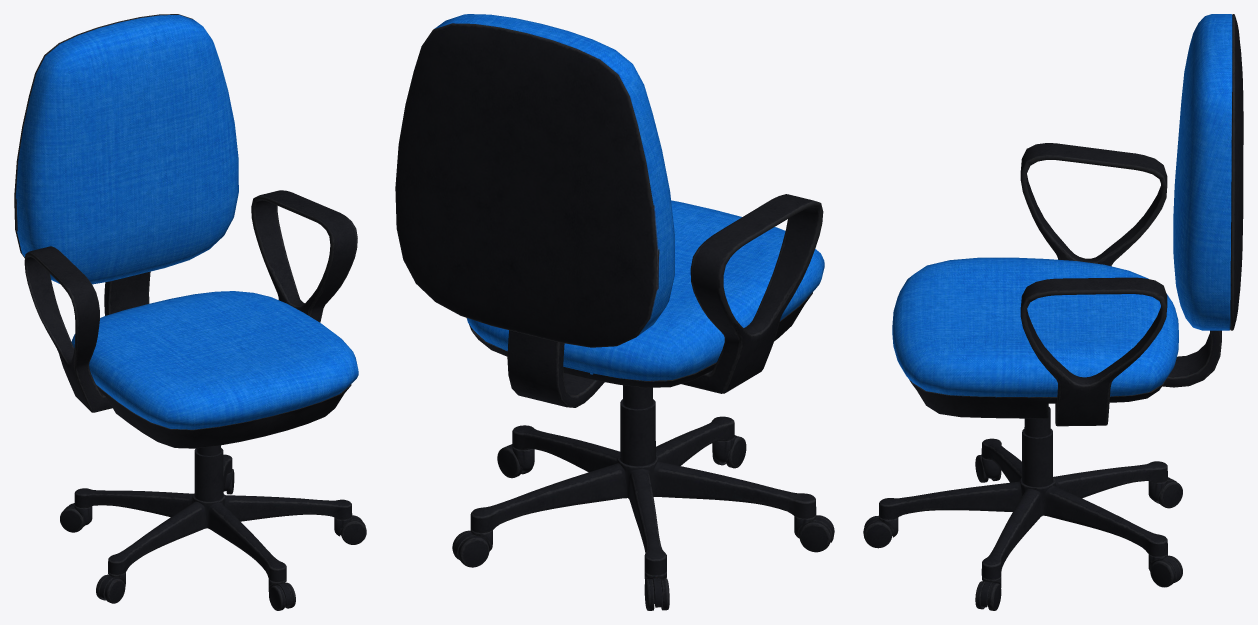
The model's file is fauteuil.fbx.
The picture shows the model from 3 angles, left to right: view 1: azimuth 30°, elevation 25°; view 2: azimuth 150°, elevation 25°; view 3: azimuth 270°, elevation 25°; orthographic projection. The views are drawn at different scales.
Parts seen in each view (by area): view 1: defaultMaterial; view 2: defaultMaterial; view 3: defaultMaterial.
Boxes of the visible parts, left/top/right/bottom form: defaultMaterial: left=14, top=14, right=366, bottom=610; defaultMaterial: left=395, top=14, right=834, bottom=610; defaultMaterial: left=863, top=14, right=1243, bottom=610.
Bounding box in the file's own units: 67.82 × 106 × 72.17.
